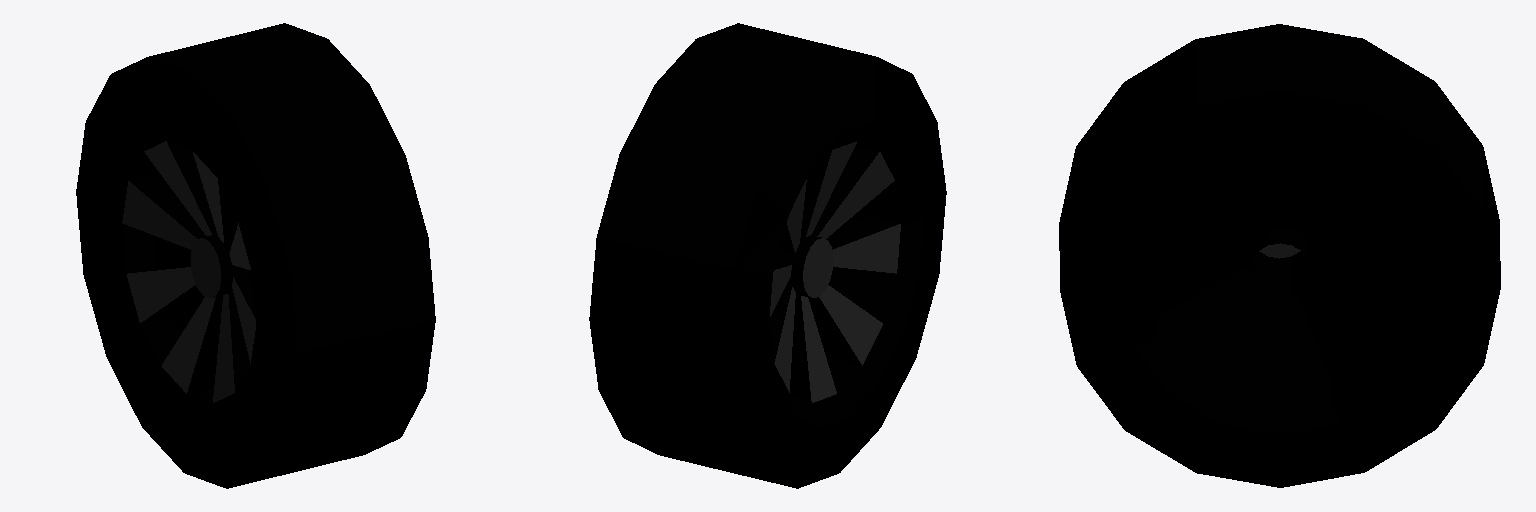
The model's file is ruotaPS.obj.
3 renders of one model, left to right at view 1: azimuth 30°, elevation 25°; view 2: azimuth 150°, elevation 25°; view 3: azimuth 270°, elevation 25°, orthographic.
Visible parts, largest first — view 1: Cube.002; view 2: Cube.002; view 3: Cube.002.
Boxes of the visible parts, x1=… form: Cube.002: x1=76, y1=23, x2=435, y2=488; Cube.002: x1=589, y1=23, x2=946, y2=488; Cube.002: x1=1059, y1=24, x2=1500, y2=487.
Size of the model in its own units: 0.2356 by 0.5537 by 0.5545.